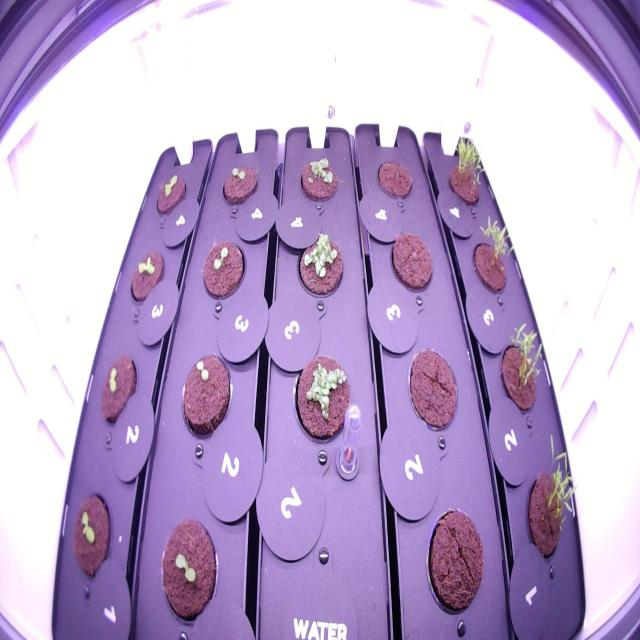germination: (522, 428, 582, 569), (154, 512, 220, 628), (289, 344, 354, 452), (493, 308, 549, 423), (175, 348, 236, 444), (467, 212, 520, 298), (70, 489, 116, 588), (293, 225, 347, 304), (442, 130, 490, 211), (94, 350, 140, 433), (198, 231, 248, 306), (125, 245, 169, 311), (294, 152, 341, 208), (218, 157, 261, 211), (150, 168, 188, 221)
pod: (422, 498, 486, 622), (403, 333, 462, 440), (384, 226, 436, 297), (372, 154, 418, 205)
